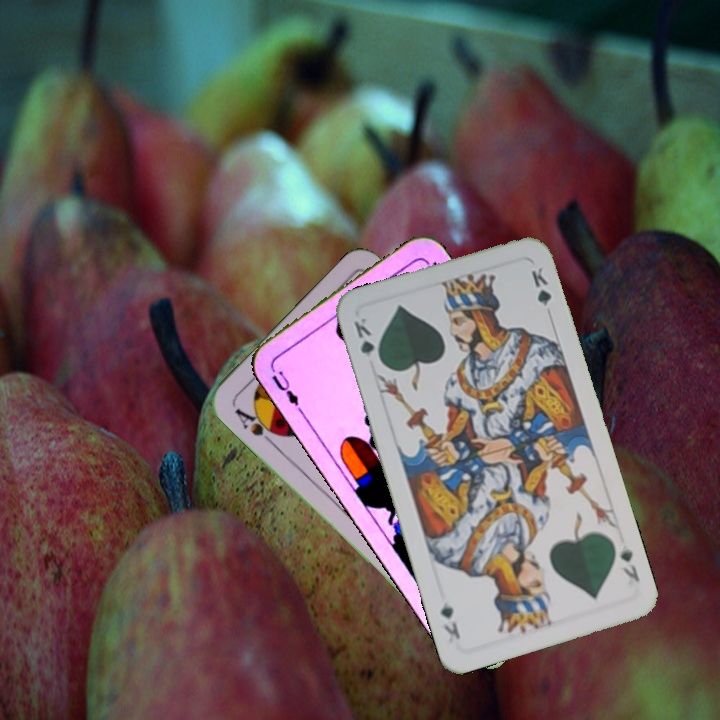EU: (267, 366, 304, 415)
GK: (349, 313, 384, 368), (615, 540, 642, 584)
SA: (230, 404, 283, 447)
